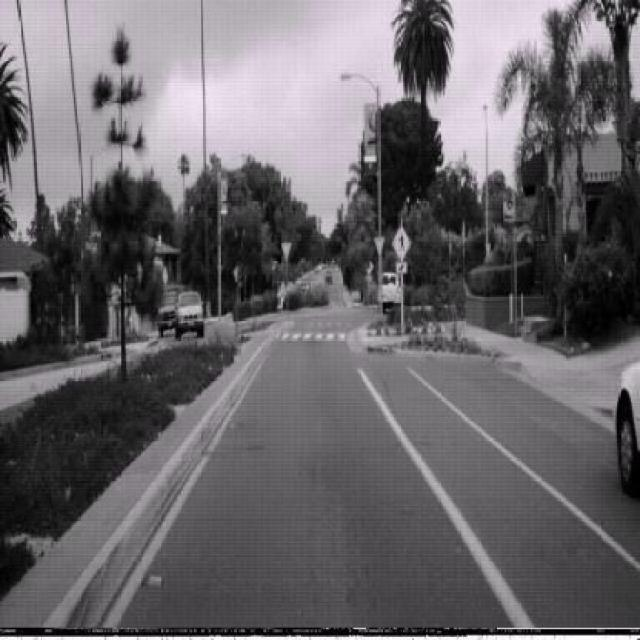pedestrianCrossing: (391, 223, 410, 263)
yield: (374, 234, 385, 256), (280, 240, 291, 261)
